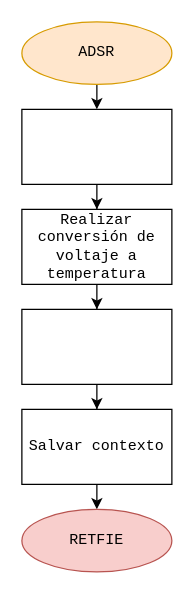
Image size: 194x594. Some labels were removed from this diagram. The box of each missing label's shape, as (x1, y1, x2, y2) in pixels:
Actualizar valores de decena y unidad: (21, 308, 172, 384)
Bajar bandera ADIF: (21, 108, 172, 184)
